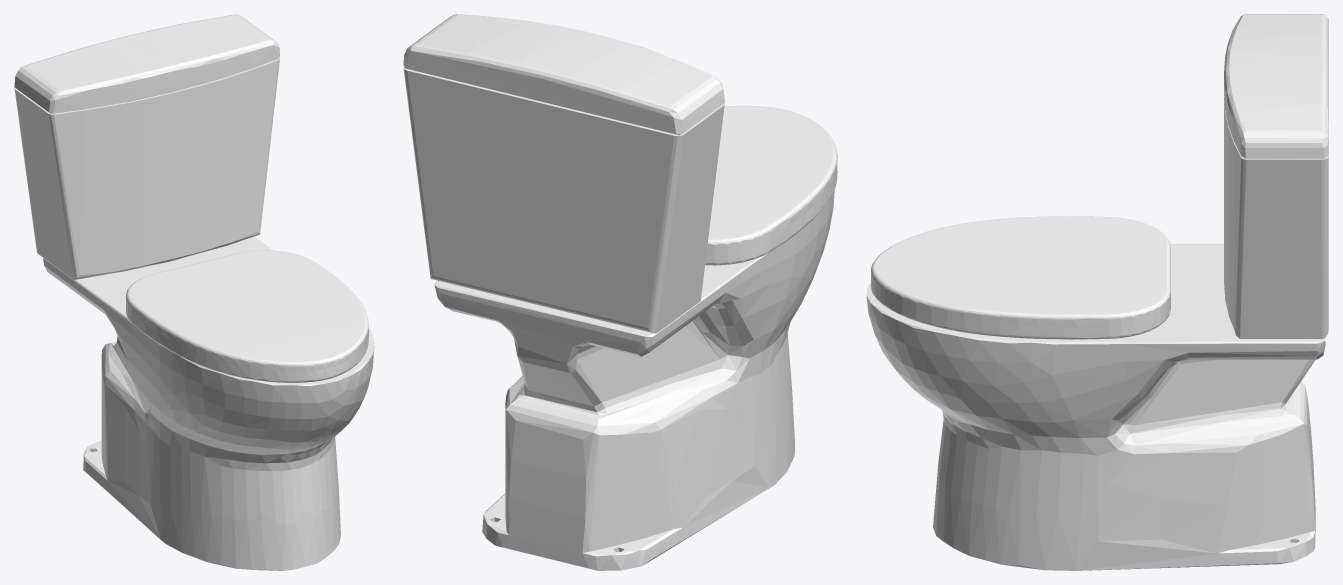
The model's file is toilet_seat.glb.
3 renders of one model, left to right at view 1: azimuth 30°, elevation 25°; view 2: azimuth 150°, elevation 25°; view 3: azimuth 270°, elevation 25°, orthographic. The views are drawn at different scales.
Parts seen in each view (by area): view 1: bathroom_toilet; view 2: bathroom_toilet; view 3: bathroom_toilet.
Boxes of the visible parts, <box> form: bathroom_toilet: <box>14,14,374,570</box>; bathroom_toilet: <box>403,14,837,570</box>; bathroom_toilet: <box>866,14,1328,570</box>.
Bounding box in the file's own units: 0.4534 × 0.7632 × 0.6948.
Materials: 2 (1 with a texture image).
